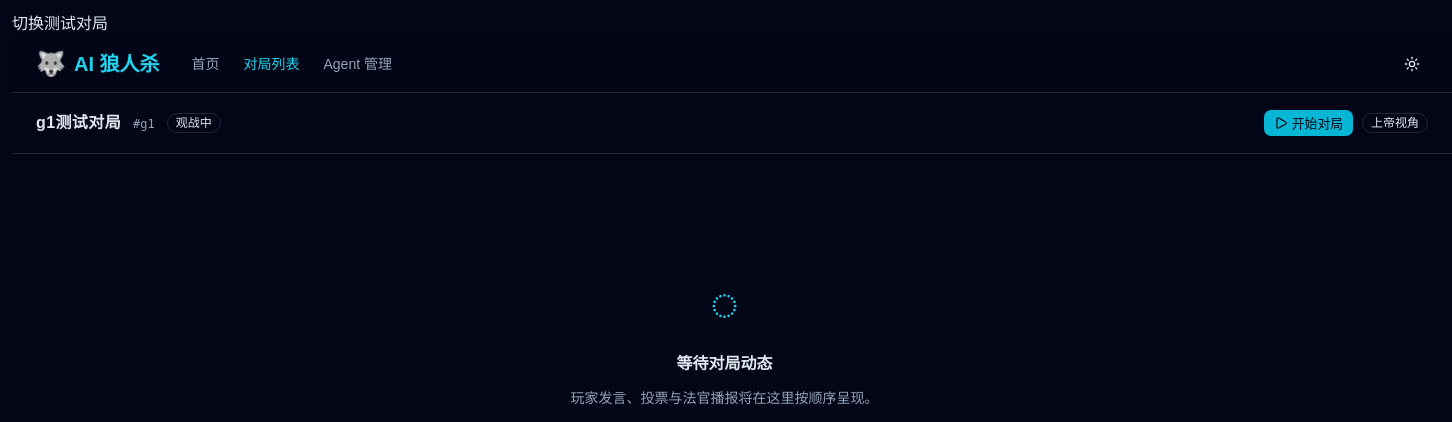
Test case: 旧 initialized 快照不会废弃已成功的启动响应
The image size is (1452, 422).
Expected: the heading "g1测试对局" is shown, [36,111,121,135]
Step 1. Click the button "开始对局" → (1308, 123), box [1263,109,1354,137]
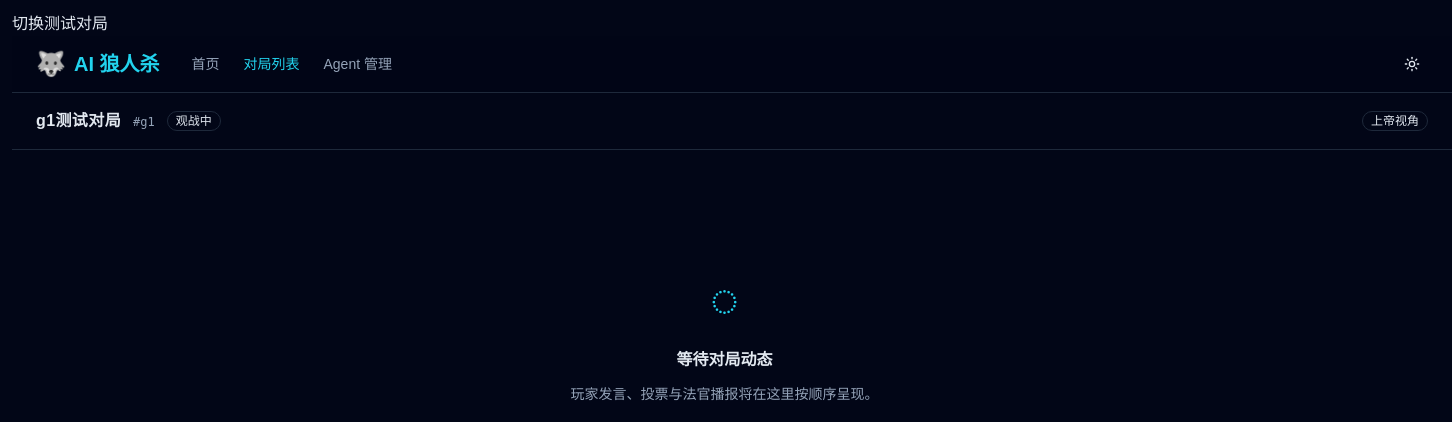
Expected: the button "开始对局" is gone
